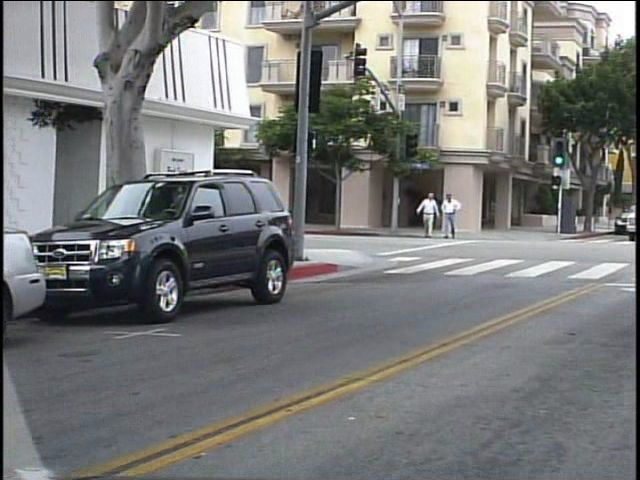person: (419, 187, 445, 245), (442, 189, 467, 243)
